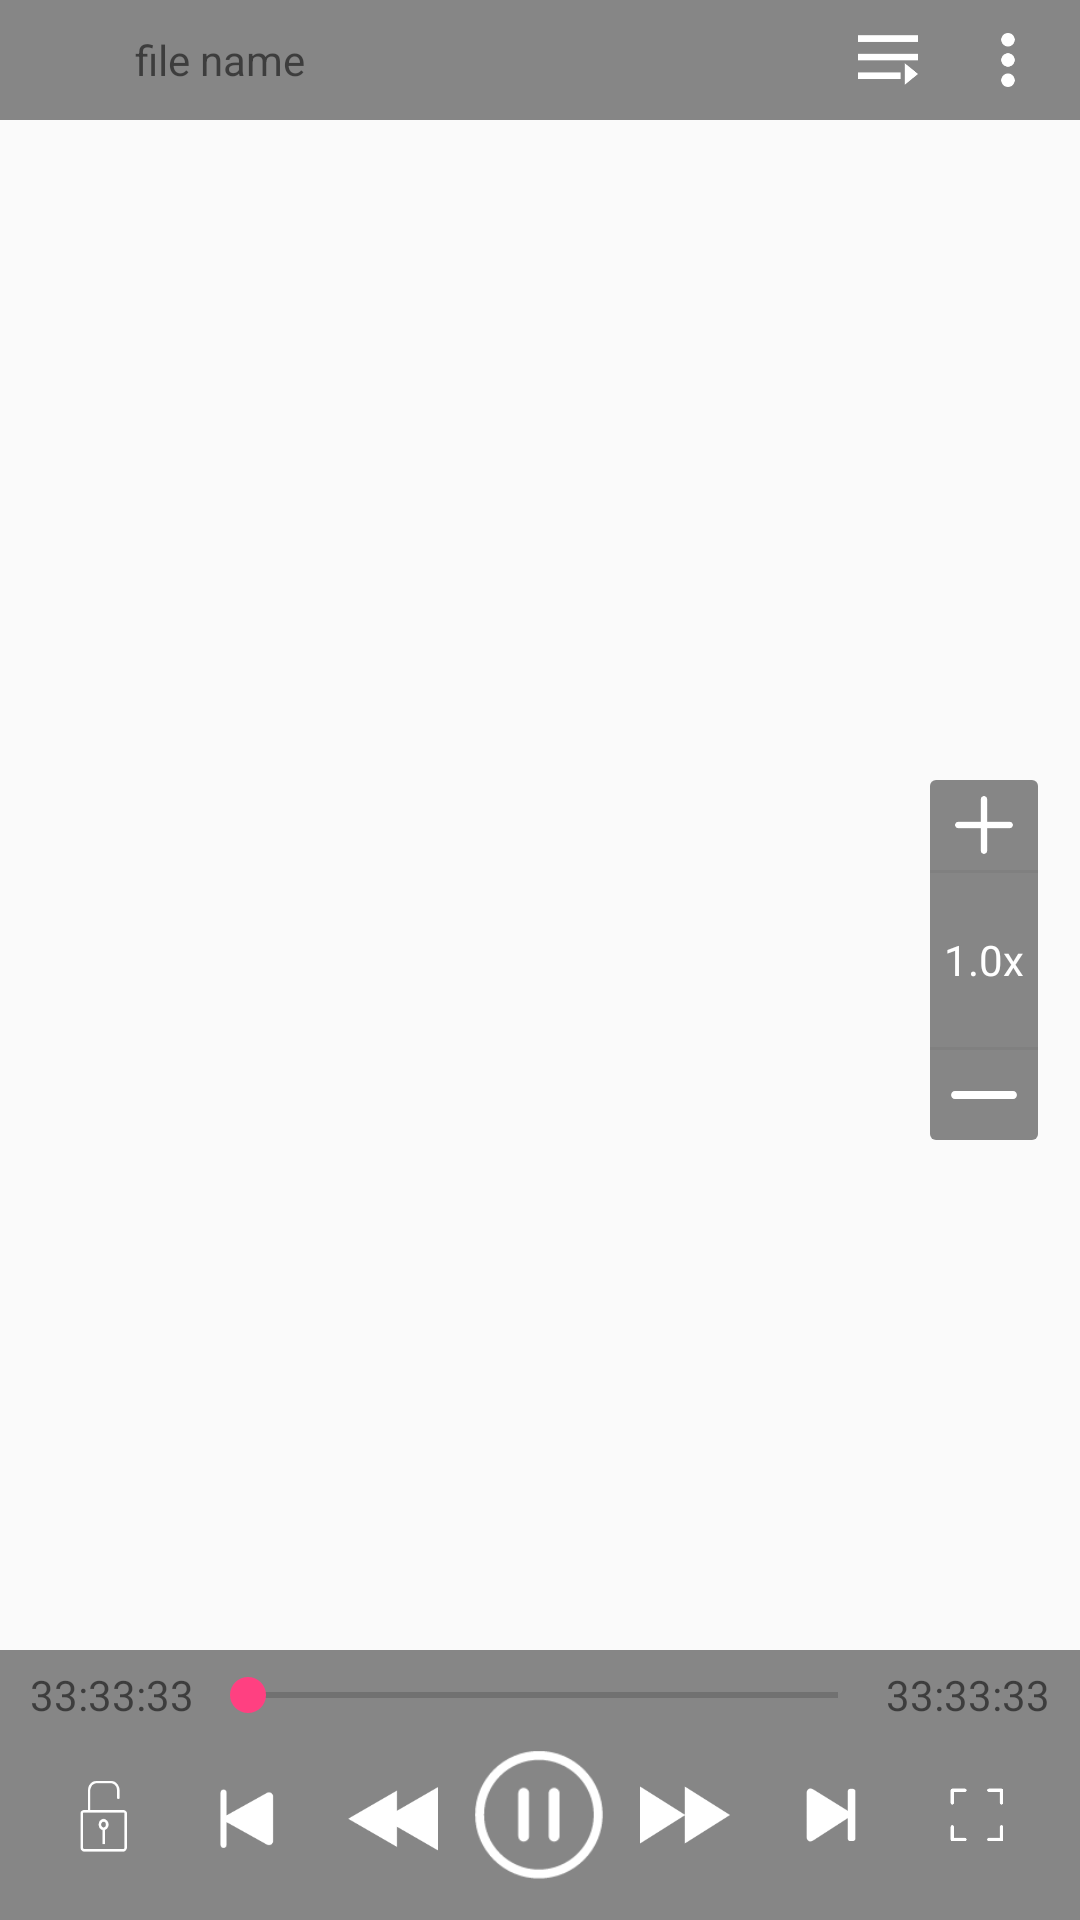

Locate icon controls on the screen. Image size 1080px x 1920px, boxes as [x1=x1, y1=y1, x2=x2, y2=y2].
back speed: [x1=348, y1=1787, x2=438, y2=1850]
paly: [x1=475, y1=1751, x2=603, y2=1879]
pre: [x1=220, y1=1789, x2=273, y2=1848]
scale: [x1=950, y1=1788, x2=1003, y2=1841]
speed up: [x1=955, y1=796, x2=1013, y2=854]
unlock: [x1=80, y1=1781, x2=127, y2=1852]
video list: [x1=858, y1=35, x2=918, y2=84]
video more: [x1=1001, y1=33, x2=1015, y2=87]
